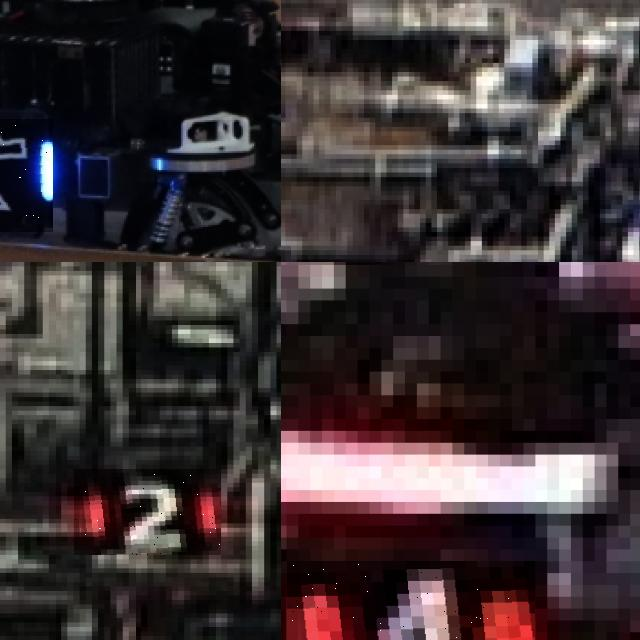Bs: (0, 118, 53, 232)
R2: (74, 469, 221, 555)
R4: (286, 561, 535, 640)
